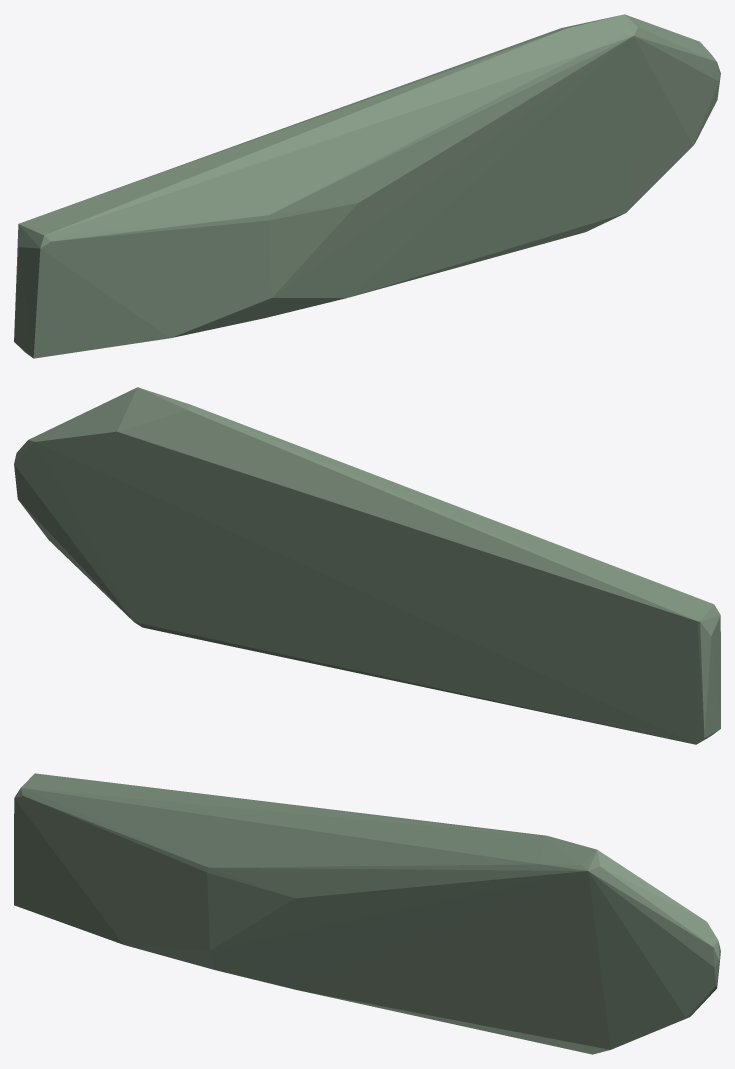
The model's file is serviceTool_gauge_pressureDigitalRemote_a01.glb.
The picture shows the model from 3 angles, top to bottom: view 1: azimuth 30°, elevation 25°; view 2: azimuth 150°, elevation 25°; view 3: azimuth 330°, elevation 25°; orthographic projection.
Visible parts, largest first — view 1: geometry_0; view 2: geometry_0; view 3: geometry_0.
Boxes of the visible parts, x1,y1,x2,y2 form: geometry_0: [14, 14, 720, 358]; geometry_0: [14, 387, 720, 744]; geometry_0: [14, 773, 720, 1054].
Bounding box in the file's own units: 0.4793 × 0.1467 × 0.0457.
